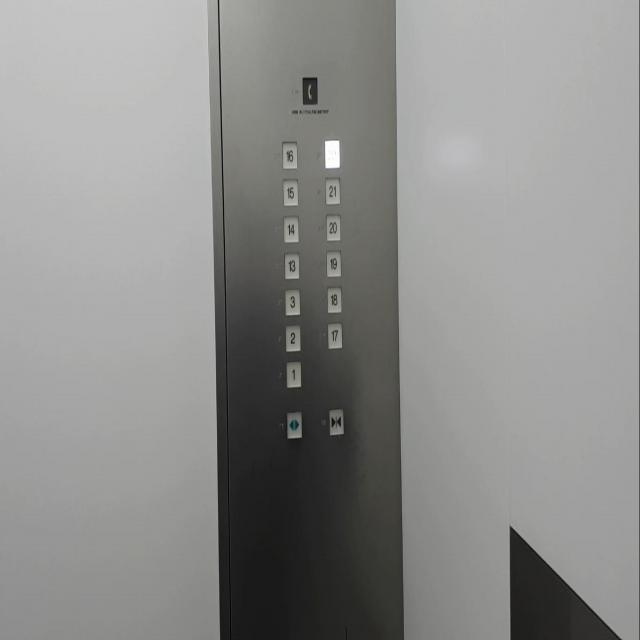1: (286, 360, 302, 388)
13: (284, 251, 300, 280)
14: (282, 214, 299, 243)
15: (282, 178, 298, 206)
16: (282, 140, 298, 170)
17: (327, 321, 343, 349)
18: (326, 285, 342, 313)
19: (326, 249, 342, 277)
2: (284, 323, 300, 352)
20: (325, 212, 341, 242)
21: (324, 176, 340, 205)
3: (284, 286, 300, 316)
blur: (324, 138, 341, 170)
call: (302, 75, 318, 105)
close: (328, 406, 343, 436)
open: (286, 410, 302, 439)
